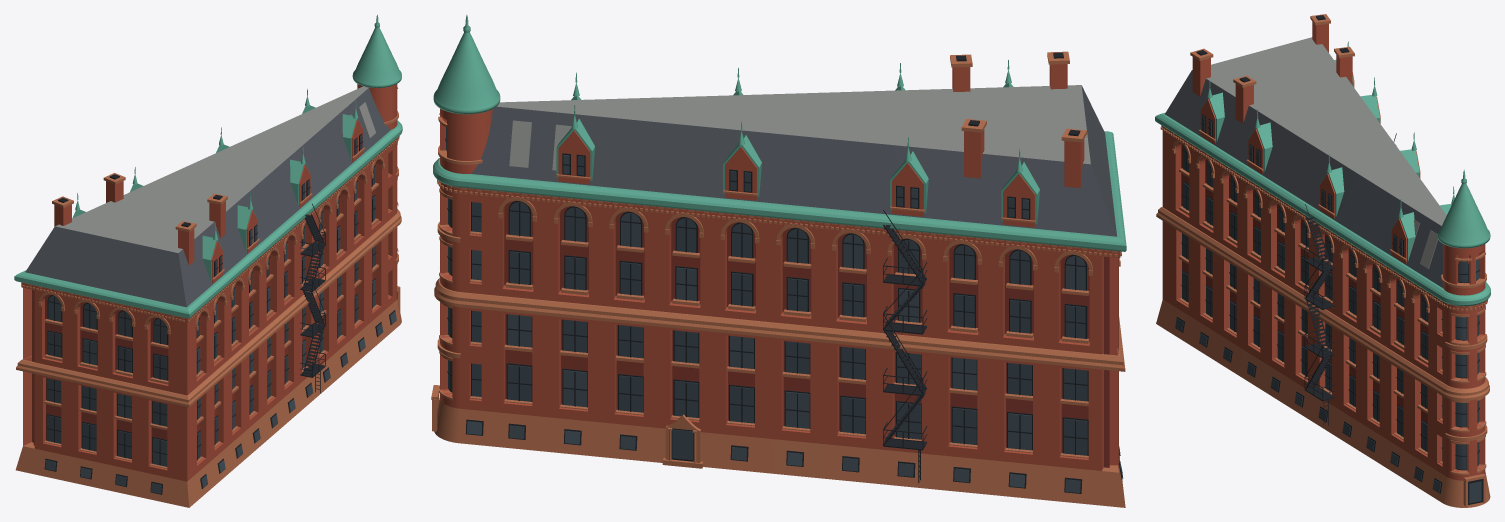
Rendered from flatiron-building-near.glb.
The picture shows the model from 3 angles, left to right: view 1: azimuth 30°, elevation 25°; view 2: azimuth 150°, elevation 25°; view 3: azimuth 270°, elevation 25°; orthographic projection. The views are drawn at different scales.
Visible parts, largest first — view 1: flatiron-building-0-brick, flatiron-building-0-stone, flatiron-building-0-slate, flatiron-building-0-roof, flatiron-building-0-copper, flatiron-building-0-glass, flatiron-building-0-iron, flatiron-building-0-recess, flatiron-building-0-glow; view 2: flatiron-building-0-brick, flatiron-building-0-stone, flatiron-building-0-slate, flatiron-building-0-glass, flatiron-building-0-roof, flatiron-building-0-copper, flatiron-building-0-iron, flatiron-building-0-recess, flatiron-building-0-glow; view 3: flatiron-building-0-brick, flatiron-building-0-stone, flatiron-building-0-roof, flatiron-building-0-slate, flatiron-building-0-copper, flatiron-building-0-glass, flatiron-building-0-iron, flatiron-building-0-recess, flatiron-building-0-glow.
Part boxes in pixels (x1,y1,x2,y2): flatiron-building-0-brick: (21, 84, 397, 481); flatiron-building-0-stone: (15, 87, 401, 507); flatiron-building-0-slate: (25, 88, 390, 307); flatiron-building-0-roof: (55, 86, 375, 252); flatiron-building-0-copper: (14, 14, 402, 318); flatiron-building-0-glass: (45, 134, 383, 493); flatiron-building-0-iron: (44, 133, 396, 494); flatiron-building-0-recess: (33, 162, 375, 462); flatiron-building-0-glow: (48, 180, 396, 478); flatiron-building-0-brick: (439, 64, 1120, 470); flatiron-building-0-stone: (431, 51, 1125, 507); flatiron-building-0-slate: (471, 85, 1116, 236); flatiron-building-0-glass: (448, 156, 1123, 492); flatiron-building-0-roof: (497, 85, 1090, 170); flatiron-building-0-copper: (433, 15, 1126, 251); flatiron-building-0-iron: (445, 52, 1122, 493); flatiron-building-0-recess: (504, 200, 1109, 467); flatiron-building-0-glow: (446, 127, 1120, 487); flatiron-building-0-brick: (1161, 22, 1486, 480); flatiron-building-0-stone: (1156, 14, 1490, 507); flatiron-building-0-roof: (1206, 37, 1446, 268); flatiron-building-0-slate: (1165, 70, 1443, 288); flatiron-building-0-copper: (1155, 41, 1490, 306); flatiron-building-0-glass: (1175, 115, 1481, 503); flatiron-building-0-iron: (1175, 15, 1483, 504); flatiron-building-0-recess: (1181, 144, 1467, 469); flatiron-building-0-glow: (1182, 145, 1479, 492).
Bounding box in the file's own units: 39.78 × 26 × 24.16.
